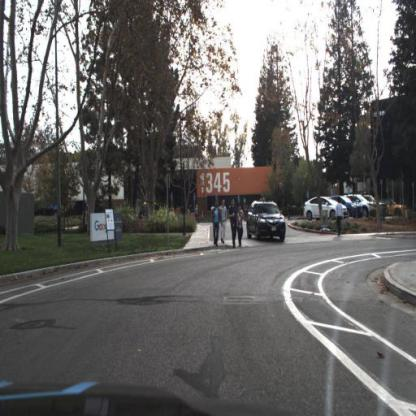car: (246, 198, 288, 245), (303, 196, 350, 223), (344, 194, 381, 219), (330, 196, 363, 221)
pedestrian: (217, 200, 231, 246), (230, 198, 242, 251), (210, 203, 223, 249), (334, 199, 345, 238), (224, 199, 233, 246), (220, 200, 226, 245)
